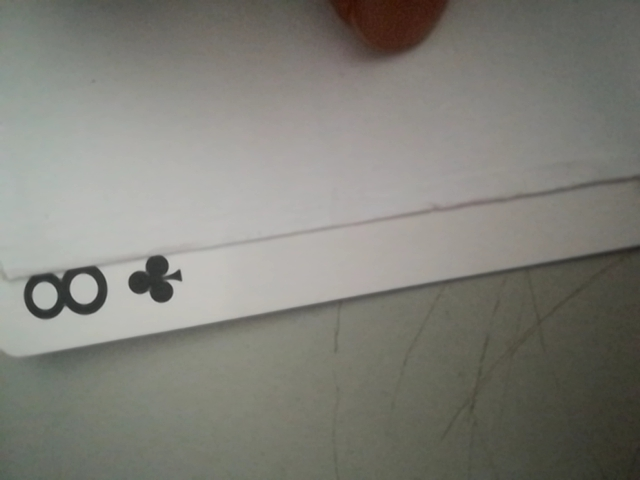mh 8: (2, 249, 198, 339)
